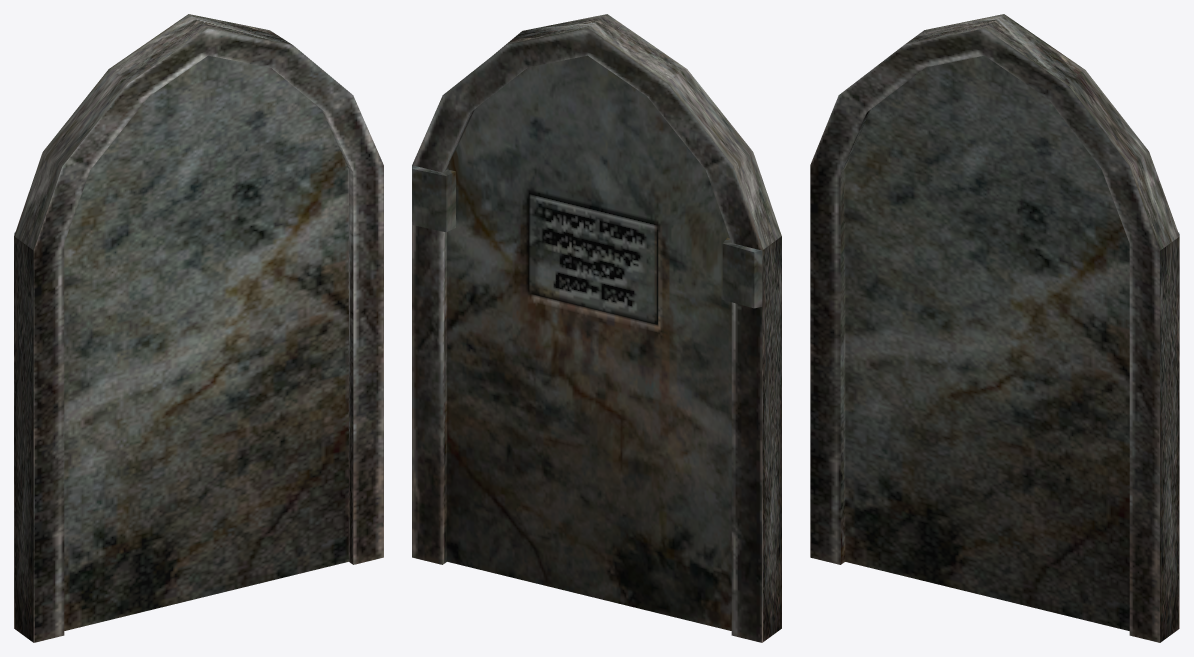
File: cem_tomb3.glb
3 renders of one model, left to right at view 1: azimuth 30°, elevation 25°; view 2: azimuth 150°, elevation 25°; view 3: azimuth 330°, elevation 25°, orthographic.
Visible parts, largest first — view 1: cem_tomb3-col; view 2: cem_tomb3-col; view 3: cem_tomb3-col.
Boxes of the visible parts, <box> form: cem_tomb3-col: <box>14,14,383,642</box>; cem_tomb3-col: <box>412,14,781,642</box>; cem_tomb3-col: <box>810,14,1179,642</box>.
Bounding box in the file's own units: 1.33 × 2.07 × 0.1537.
2 materials, 2 textured.
